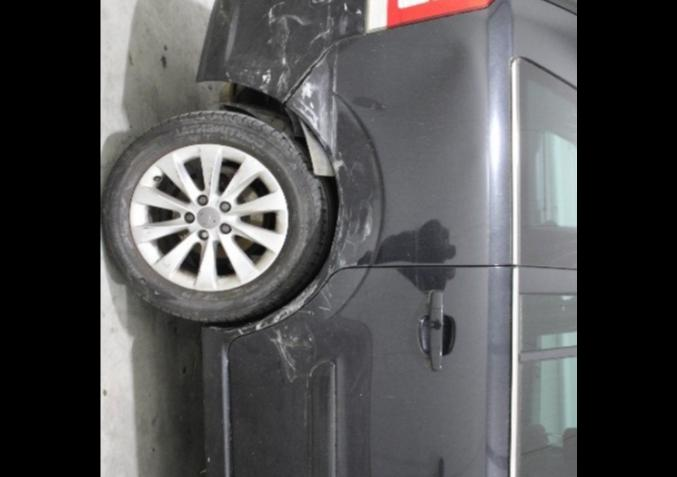Broken part: (206, 78, 336, 176), (280, 48, 331, 105)
Dent: (411, 22, 470, 99)
Paint chip: (261, 278, 318, 329), (254, 319, 263, 331)
Scratch: (266, 326, 299, 383), (260, 9, 305, 43), (293, 96, 325, 141), (275, 17, 291, 93), (342, 210, 359, 247), (358, 199, 372, 243), (296, 384, 310, 425), (330, 156, 349, 180), (329, 96, 336, 156), (336, 250, 356, 269), (299, 80, 314, 99), (310, 29, 330, 43), (315, 51, 330, 69), (330, 51, 336, 95), (321, 265, 333, 285), (319, 290, 330, 308), (260, 67, 271, 84), (270, 0, 288, 9), (236, 325, 252, 335), (327, 4, 334, 25), (340, 14, 347, 34), (337, 182, 343, 204), (219, 0, 226, 17), (337, 221, 342, 240), (257, 84, 267, 93), (335, 210, 340, 225), (225, 69, 231, 80), (239, 68, 247, 75), (311, 0, 324, 4), (308, 101, 315, 108), (304, 109, 311, 116), (317, 306, 329, 310), (355, 8, 361, 15), (342, 2, 347, 10), (297, 310, 310, 313), (307, 334, 312, 341), (320, 34, 327, 38), (255, 69, 260, 74), (312, 312, 314, 315)
